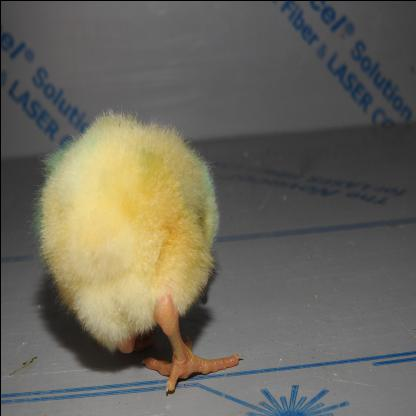Chicken: (34, 102, 240, 382)
